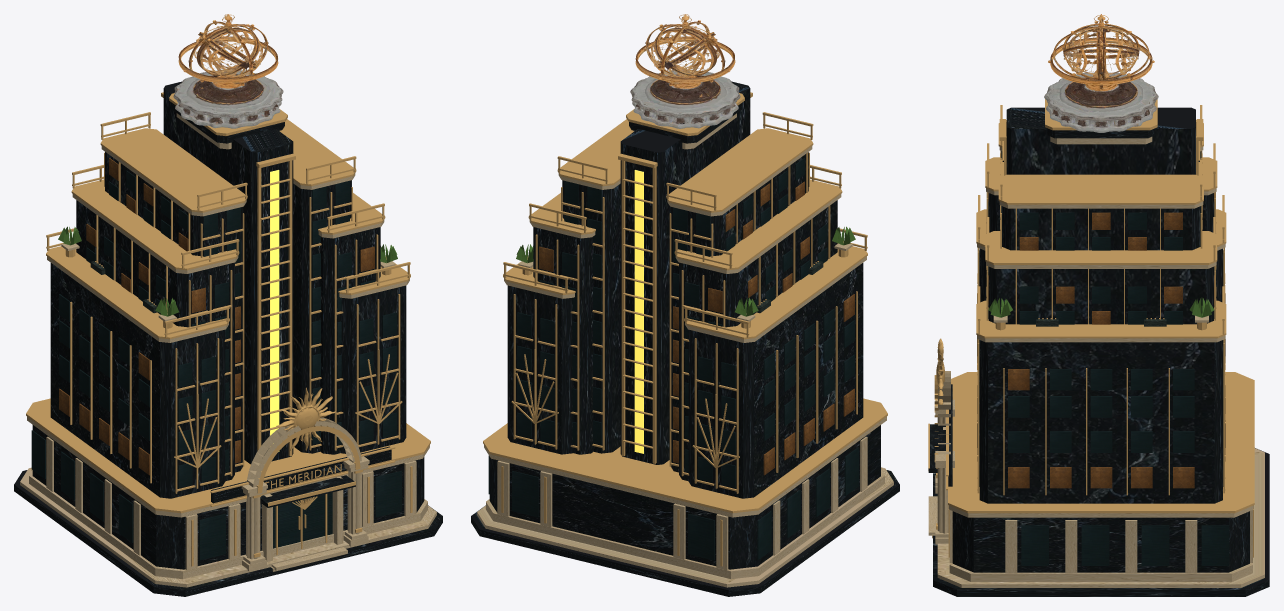
The picture shows the model from 3 angles, left to right: view 1: azimuth 30°, elevation 25°; view 2: azimuth 150°, elevation 25°; view 3: azimuth 270°, elevation 25°; orthographic projection. The views are drawn at different scales.
Visible parts, largest first — view 1: Meridian stone and glazing, THE MERIDIAN, Meshy Meridian astrolabe crown, Meridian deep gilded arch and bronze balustrades, Meridian monumental limestone portal and terrace gardens, Meridian living lift seam, Meridian monumental sunburst; view 2: Meridian stone and glazing, THE MERIDIAN, Meshy Meridian astrolabe crown, Meridian deep gilded arch and bronze balustrades, Meridian living lift seam, Meridian monumental limestone portal and terrace gardens; view 3: Meridian stone and glazing, THE MERIDIAN, Meshy Meridian astrolabe crown, Meridian monumental limestone portal and terrace gardens, Meridian deep gilded arch and bronze balustrades.
Boxes of the visible parts, x1=… form: Meridian stone and glazing: x1=14, y1=81, x2=442, y2=596; THE MERIDIAN: x1=26, y1=92, x2=430, y2=566; Meshy Meridian astrolabe crown: x1=173, y1=14, x2=283, y2=128; Meridian deep gilded arch and bronze balustrades: x1=46, y1=112, x2=410, y2=557; Meridian monumental limestone portal and terrace gardens: x1=58, y1=226, x2=397, y2=571; Meridian living lift seam: x1=270, y1=170, x2=279, y2=451; Meridian monumental sunburst: x1=276, y1=387, x2=335, y2=450; Meridian stone and glazing: x1=471, y1=81, x2=899, y2=596; THE MERIDIAN: x1=483, y1=92, x2=887, y2=566; Meshy Meridian astrolabe crown: x1=630, y1=14, x2=740, y2=128; Meridian deep gilded arch and bronze balustrades: x1=503, y1=112, x2=867, y2=468; Meridian living lift seam: x1=634, y1=170, x2=643, y2=453; Meridian monumental limestone portal and terrace gardens: x1=516, y1=226, x2=855, y2=321; Meridian stone and glazing: x1=928, y1=107, x2=1269, y2=596; THE MERIDIAN: x1=928, y1=99, x2=1254, y2=557; Meshy Meridian astrolabe crown: x1=1044, y1=14, x2=1158, y2=132; Meridian monumental limestone portal and terrace gardens: x1=935, y1=297, x2=1214, y2=544; Meridian deep gilded arch and bronze balustrades: x1=934, y1=105, x2=1225, y2=529.
Bounding box in the file's own units: 11.5 × 18.72 × 11.36.
4 materials, 2 textured.
